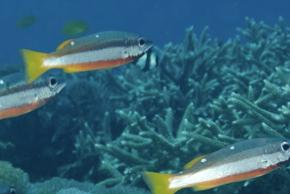Lutjanidae -Snappers-: (136, 128, 290, 194), (11, 25, 159, 85), (0, 69, 68, 130)
